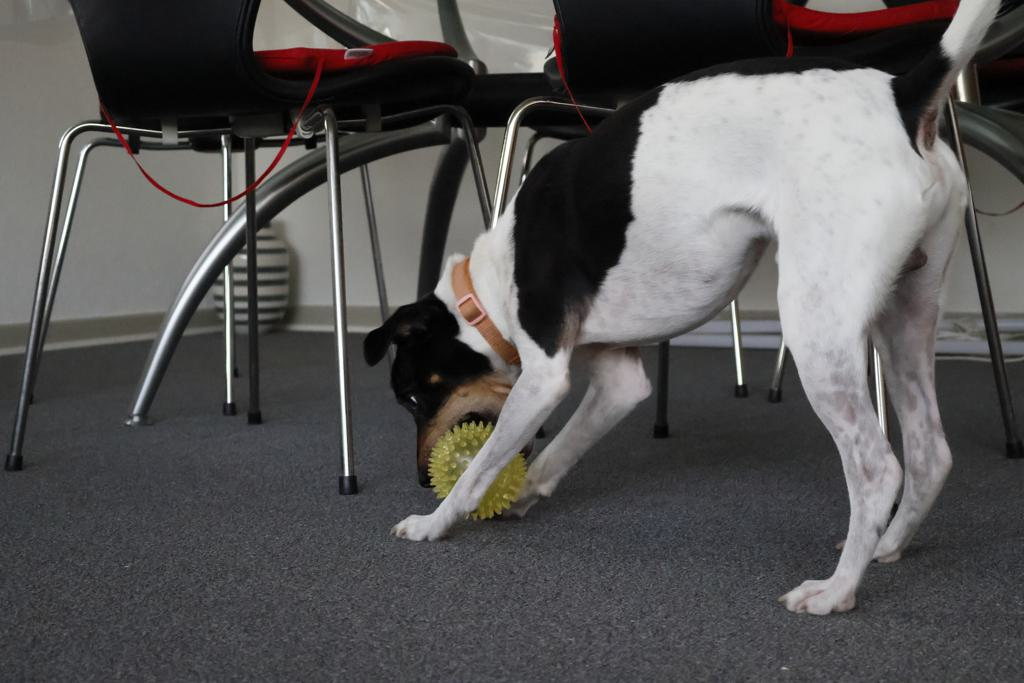Dog: (350, 0, 1009, 629)
